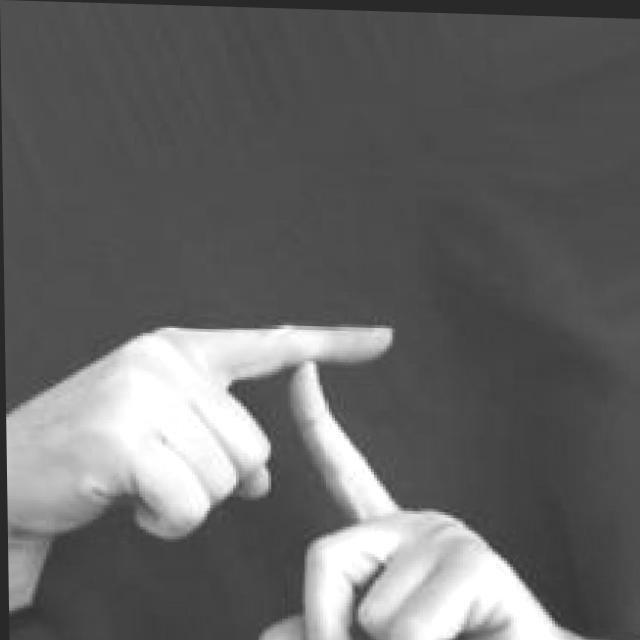T: (5, 311, 576, 640)
